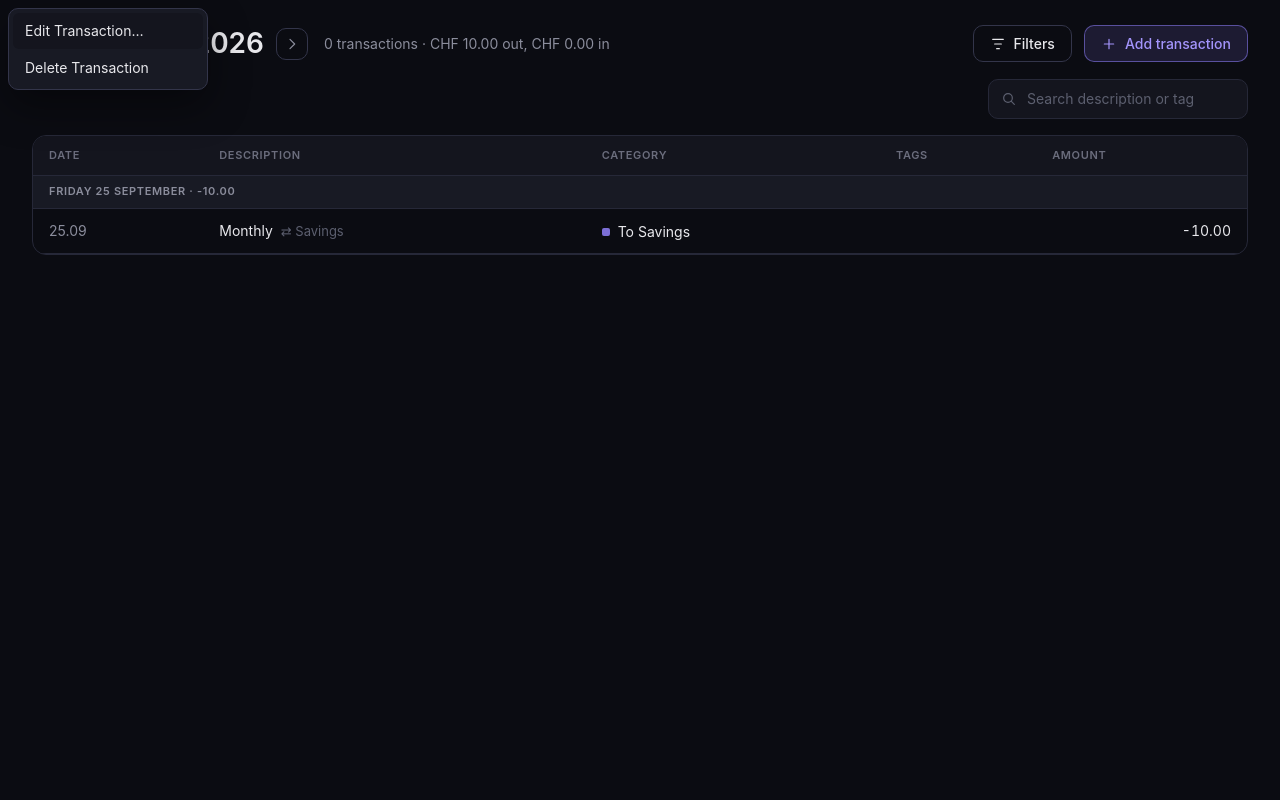
Test: TransactionsPage transfers › the delete confirmation of a paired transaction mentions the linked one
This screenshot has width=1280, height=800.
Click the menu item "Delete Transaction": click(108, 67) 13,50 -> 203,85
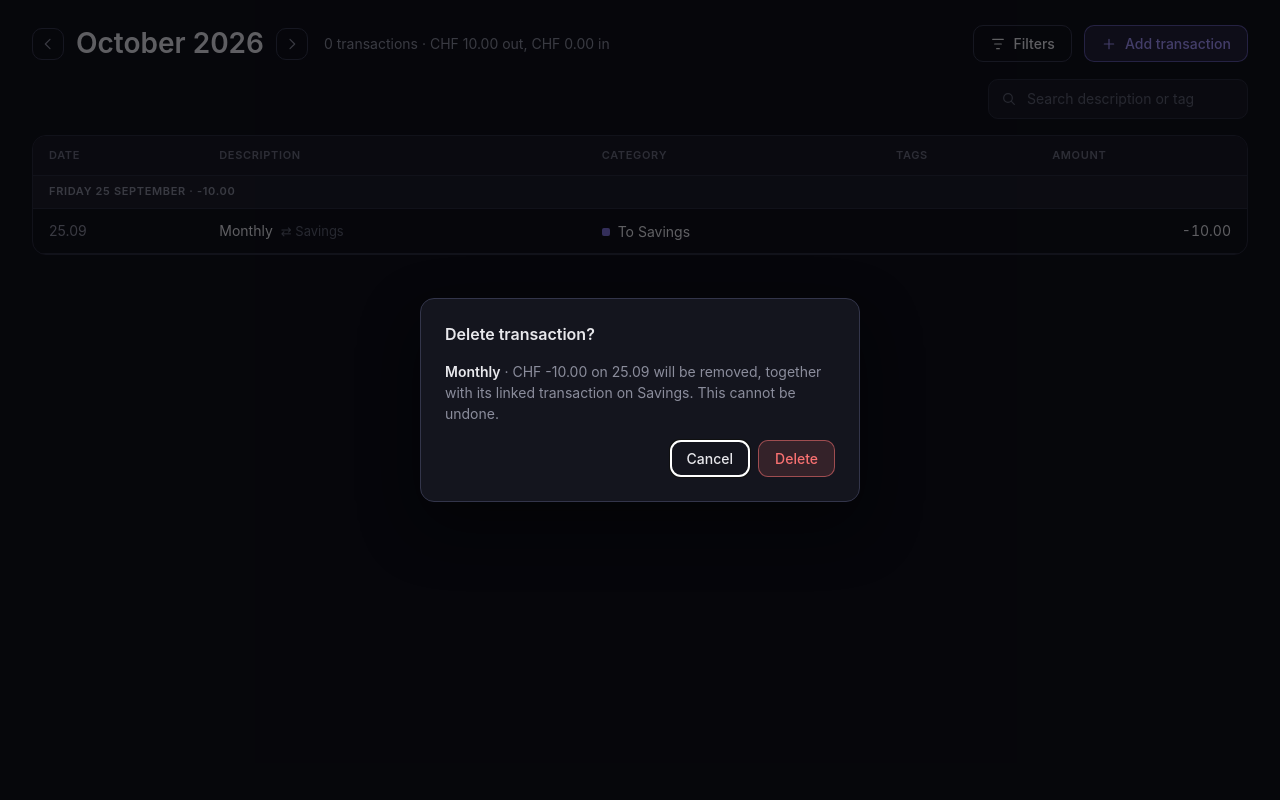
Expected: the dialog shows "together with its linked transaction on Savings", 445,363 -> 821,422
